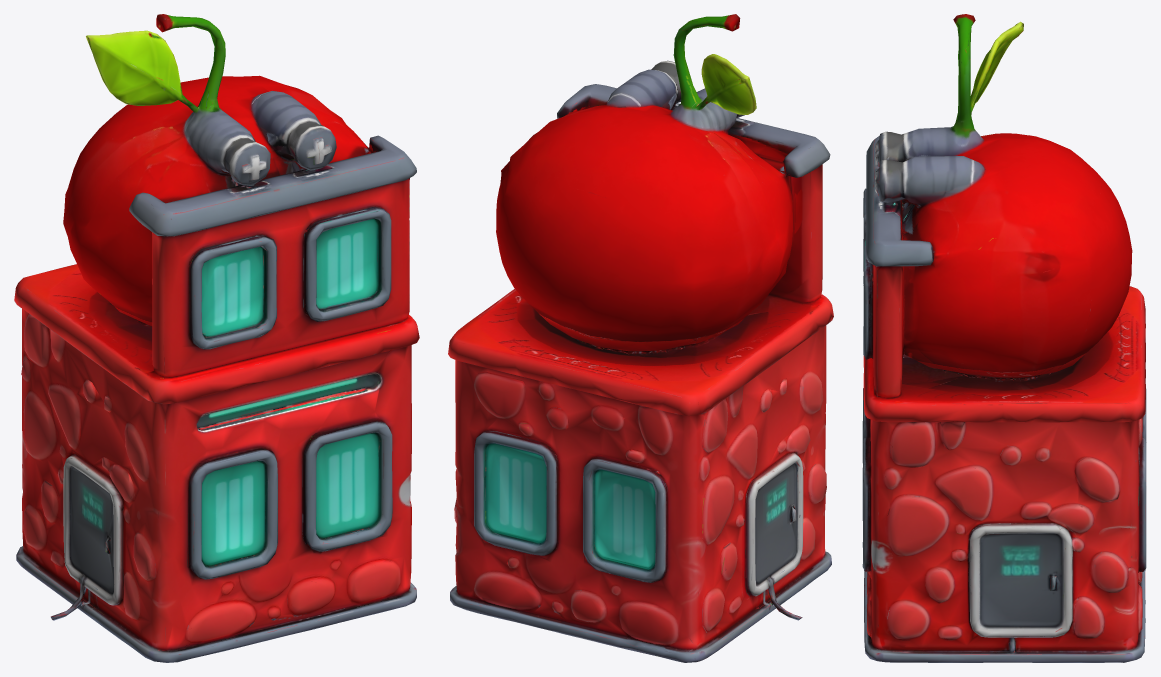
The model's file is Meshy_AI_Red_Powerhouse_0115095700_texture.fbx.
3 views of the same model, side by side, from view 1: azimuth 30°, elevation 25°; view 2: azimuth 150°, elevation 25°; view 3: azimuth 270°, elevation 25° (orthographic). The views are drawn at different scales.
Parts seen in each view (by area): view 1: Mesh1.0; view 2: Mesh1.0; view 3: Mesh1.0.
Boxes of the visible parts, left/top/right/bottom form: Mesh1.0: left=14, top=14, right=419, bottom=662; Mesh1.0: left=448, top=14, right=833, bottom=662; Mesh1.0: left=862, top=14, right=1146, bottom=662.
Bounding box in the file's own units: 103 × 191 × 88.69.
Materials: 1 (1 with a texture image).
